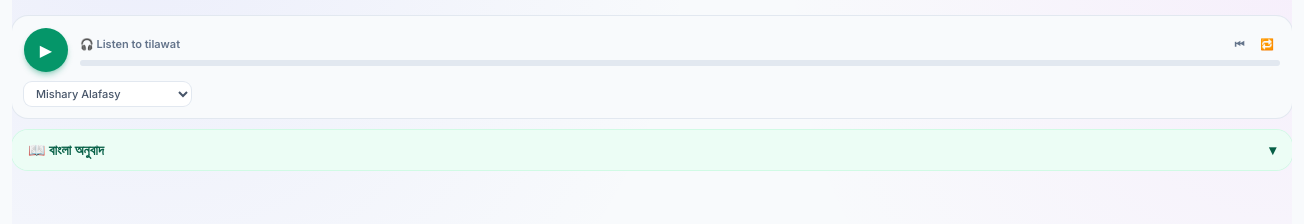
Test case: shows a friendly error when the Quran service is unreachable
What coordinates should you click on to do the following:
click the button named "listen to the recitation"
I would click on:
 (46, 50)
Its box is [24,28,68,72].
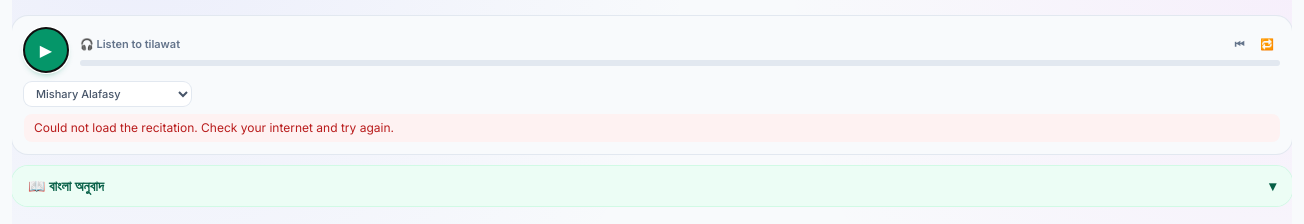
Check: the message shows "Could not load the recitation", box [34,120,394,135]
